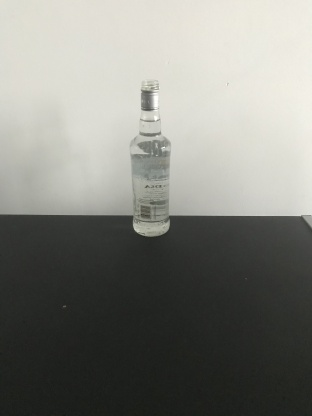nakretka: (139, 77, 161, 112)
